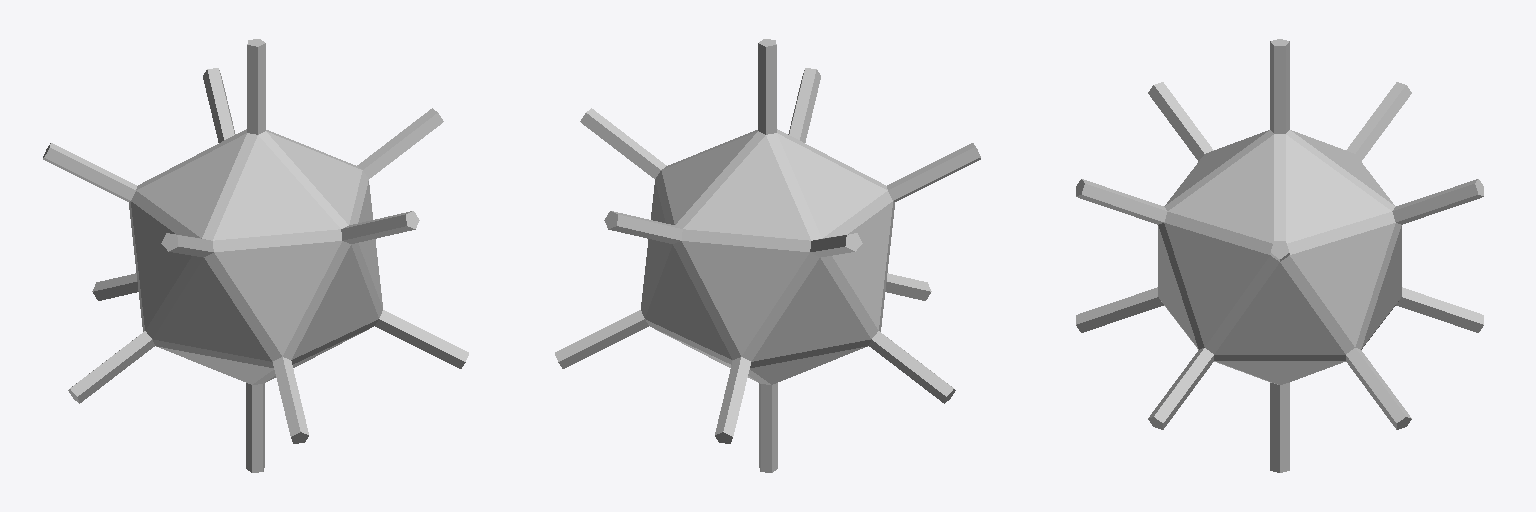
The model's file is virus_ico_large.obj.
3 renders of one model, left to right at view 1: azimuth 30°, elevation 25°; view 2: azimuth 150°, elevation 25°; view 3: azimuth 270°, elevation 25°, orthographic.
Parts seen in each view (by area): view 1: Virus_Ico_Large_Icosphere.003; view 2: Virus_Ico_Large_Icosphere.003; view 3: Virus_Ico_Large_Icosphere.003.
Part boxes in pixels (x1,y1,x2,y2): Virus_Ico_Large_Icosphere.003: (43,39,468,472); Virus_Ico_Large_Icosphere.003: (555,39,980,472); Virus_Ico_Large_Icosphere.003: (1076,39,1483,472).
Bounding box in the file's own units: 8.85 × 9.68 × 8.41.